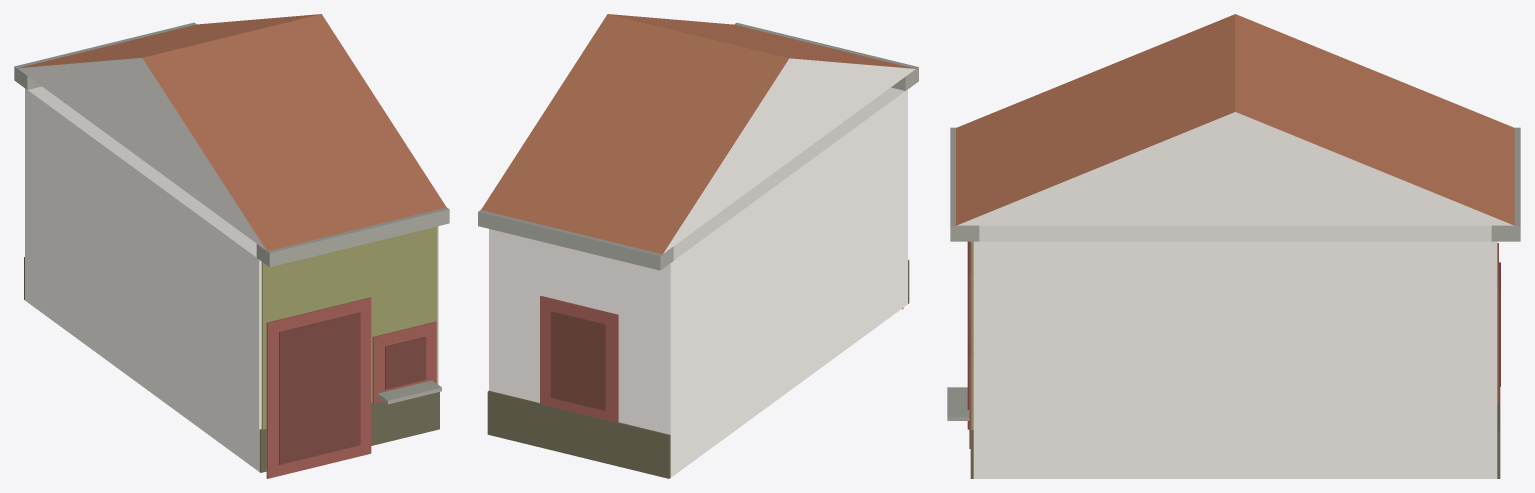
Rendered from SM_KitCuerpo_v5_LOD1.fbx.
3 views of the same model, side by side, from view 1: azimuth 30°, elevation 25°; view 2: azimuth 150°, elevation 25°; view 3: azimuth 270°, elevation 25° (orthographic). The views are drawn at different scales.
Visible parts, largest first — view 1: SM_bloques.kit_cuerpo_v5_LOD1; view 2: SM_bloques.kit_cuerpo_v5_LOD1; view 3: SM_bloques.kit_cuerpo_v5_LOD1.
Part boxes in pixels (x1,y1,x2,y2): SM_bloques.kit_cuerpo_v5_LOD1: (14,14,449,478); SM_bloques.kit_cuerpo_v5_LOD1: (478,14,918,478); SM_bloques.kit_cuerpo_v5_LOD1: (947,14,1520,478).
Size of the model in its own units: 3.99 by 7.11 by 9.85.
